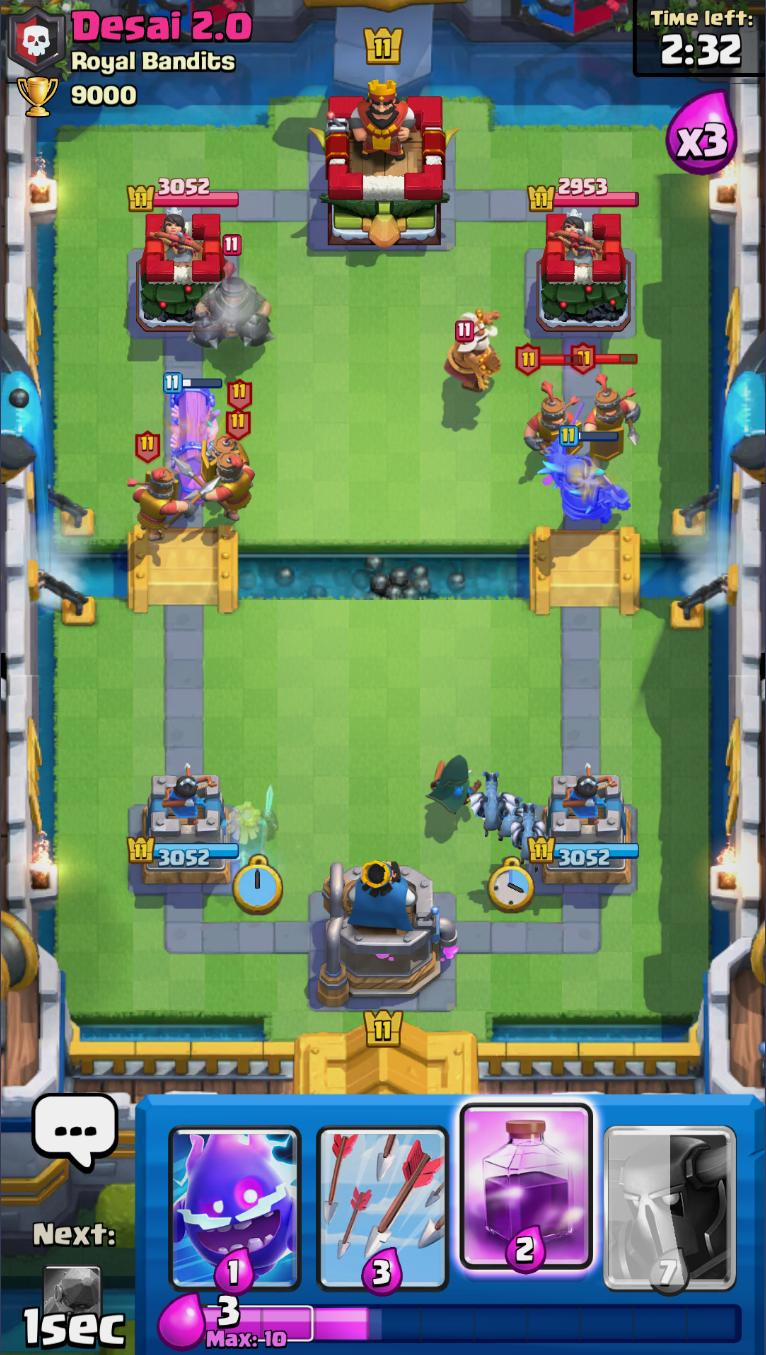ArrowDeck: (311, 1099, 454, 1296)
BattleRamNext: (41, 1263, 103, 1343)
ElectroSpiritDeck: (164, 1096, 313, 1294)
Elixir: (201, 1296, 741, 1351)
EnemyTower: (136, 211, 234, 331), (538, 209, 632, 333), (129, 178, 239, 212), (529, 178, 640, 211)
KingTower: (311, 79, 459, 246)
MegaKnight: (191, 235, 276, 347)
Monk: (443, 307, 503, 394)
MyBandit: (424, 750, 484, 811)
MyBattleRam: (160, 370, 225, 508)
MyKingTower: (317, 860, 460, 1007)
MyMinion: (467, 770, 516, 834), (507, 800, 547, 864), (497, 787, 527, 843)
MyPekka: (540, 401, 633, 528)
MyPrincessTower: (129, 771, 240, 889), (531, 773, 639, 889)
MyPrincessTowerHP: (126, 836, 241, 867), (531, 835, 640, 866)
MyRoyaleGhost: (216, 784, 279, 870)
PekkaDeck: (599, 1094, 741, 1296)
PrincessTower: (550, 211, 605, 264), (149, 213, 204, 264)
RageDeck: (456, 1096, 597, 1294)
RoyalRecruit: (513, 345, 587, 459), (572, 345, 637, 462), (125, 429, 182, 547), (205, 411, 256, 521), (203, 378, 250, 473)
